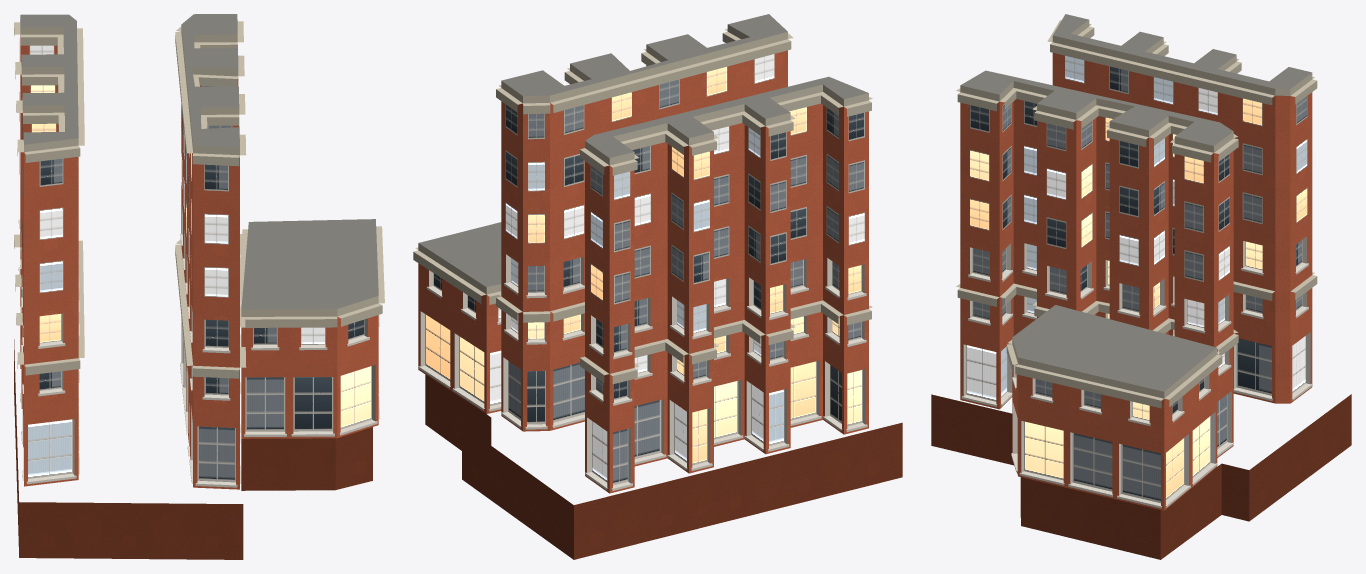
File: langA_kiosk206.glb
The picture shows the model from 3 angles, left to right: view 1: azimuth 30°, elevation 25°; view 2: azimuth 150°, elevation 25°; view 3: azimuth 270°, elevation 25°; orthographic projection. The views are drawn at different scales.
Visible parts, largest first — view 1: langA_kiosk206; view 2: langA_kiosk206; view 3: langA_kiosk206.
Part boxes in pixels (x1=…): langA_kiosk206: x1=14, y1=14, x2=384, y2=559; langA_kiosk206: x1=413, y1=14, x2=902, y2=559; langA_kiosk206: x1=931, y1=14, x2=1351, y2=559.
Bounding box in the file's own units: 24.16 × 21.36 × 22.21.
Materials: 3 (3 with a texture image).
